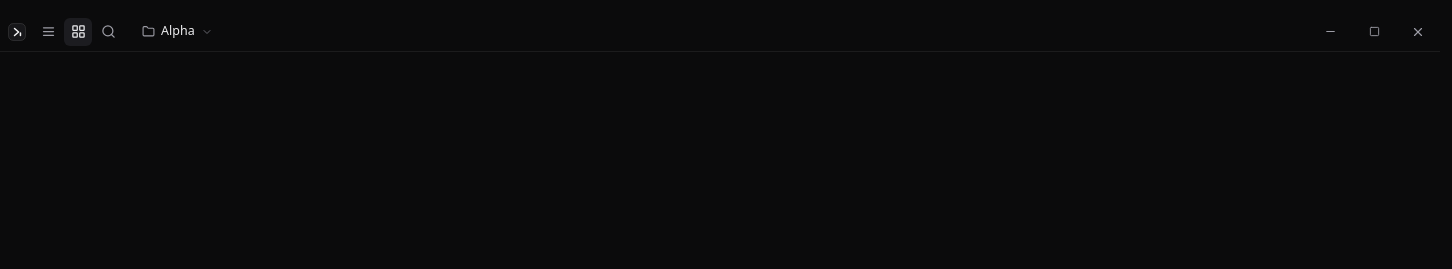
Test: TopBar › project switcher › lists projects, marks the current one and switches on click
The image size is (1452, 269).
Click the button with test id "topbar-project".
click(177, 32)  # box [134, 18, 221, 46]
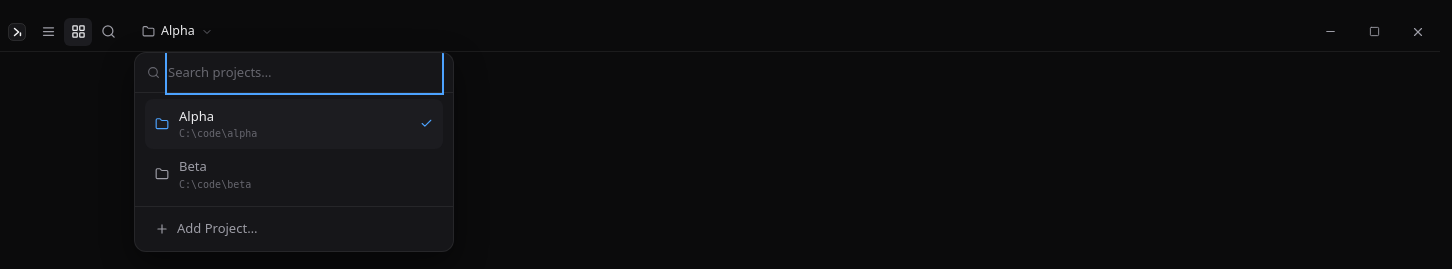
Expected: the icon with test id "switcher-current" is shown, [420, 117, 433, 130]
Click the menu item with test id "switcher-project-1".
click(215, 184)  # box [145, 149, 443, 200]
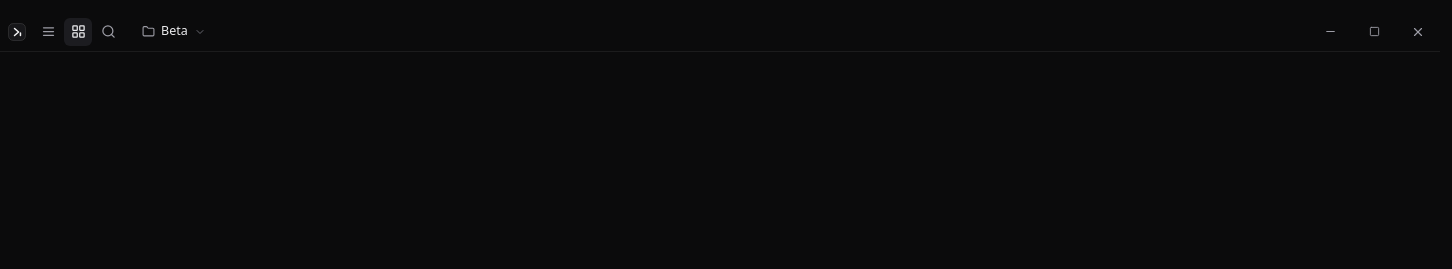
Expected: the menu with test id "project-switcher" is gone
